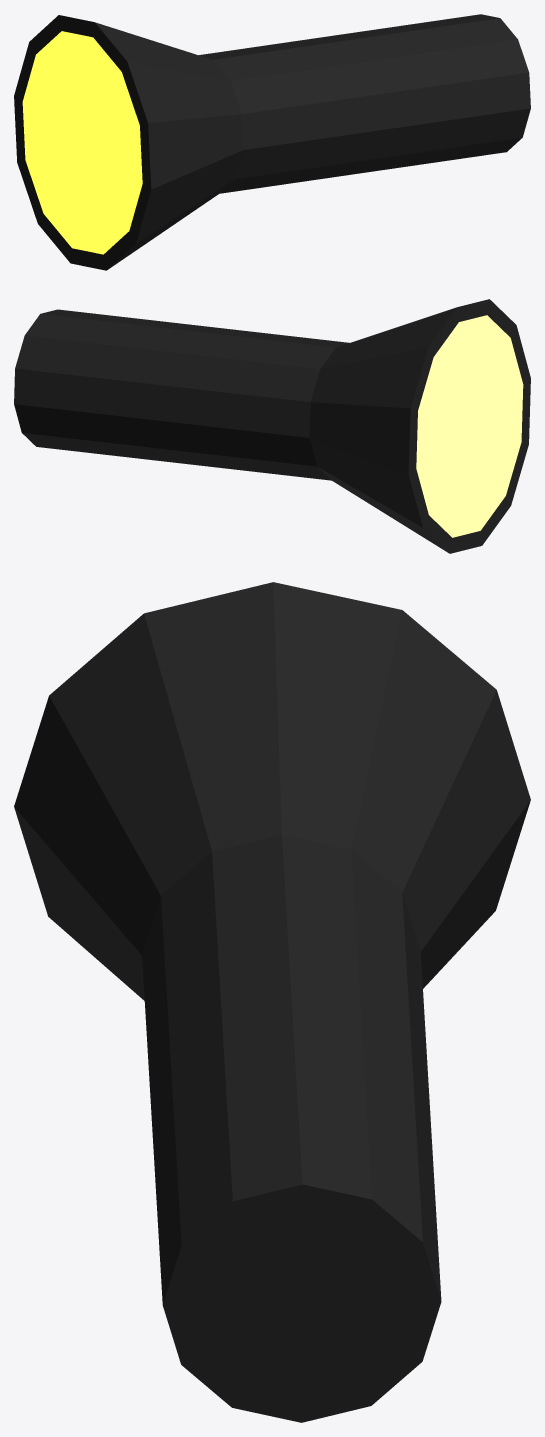
Rendered from flashlight.glb.
3 views of the same model, one above another, from view 1: azimuth 30°, elevation 25°; view 2: azimuth 150°, elevation 25°; view 3: azimuth 270°, elevation 25° (orthographic). The views are drawn at different scales.
Visible parts, largest first — view 1: flashlight; view 2: flashlight; view 3: flashlight.
Part boxes in pixels (box(x1,y1,x2,y2)): flashlight: box(14, 14, 530, 270); flashlight: box(14, 299, 530, 553); flashlight: box(14, 582, 530, 1422).
Size of the model in its own units: 0.2082 by 0.1068 by 0.1073.
